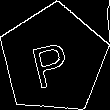P_N: (30, 30, 78, 88)
